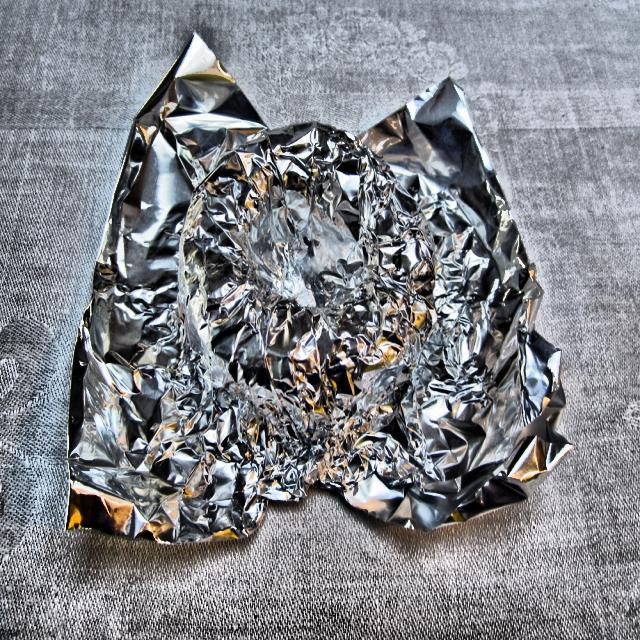Foil: (56, 27, 575, 548)
